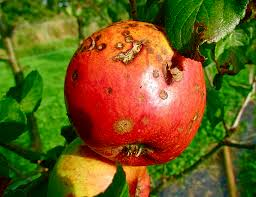damaged_apple: (66, 24, 205, 160)
